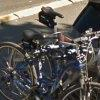Bicycle: (0, 7, 97, 97)
